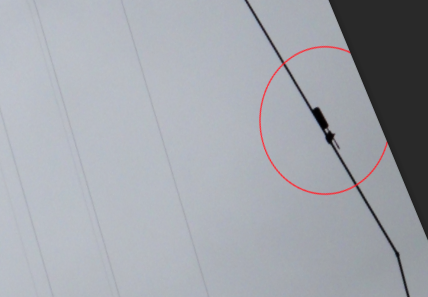damper_defect: (312, 106, 342, 151)
